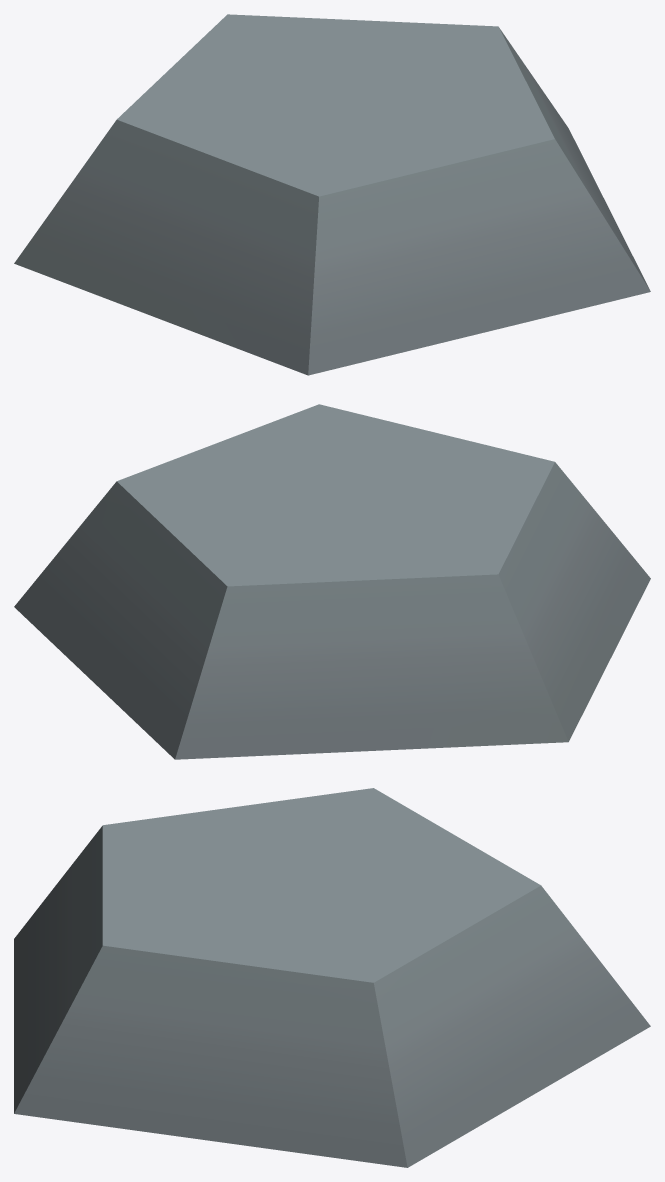
The model's file is kay-pedra-a.gltf.
3 renders of one model, top to bottom at view 1: azimuth 30°, elevation 25°; view 2: azimuth 150°, elevation 25°; view 3: azimuth 270°, elevation 25°, orthographic. The views are drawn at different scales.
Parts seen in each view (by area): view 1: rock_single_A; view 2: rock_single_A; view 3: rock_single_A.
Part boxes in pixels (x1,y1,x2,y2): rock_single_A: (14,14,650,375); rock_single_A: (14,404,650,759); rock_single_A: (14,788,650,1167).
Bounding box in the file's own units: 1.49 × 0.3464 × 1.42.
Materials: 1 (1 with a texture image).
